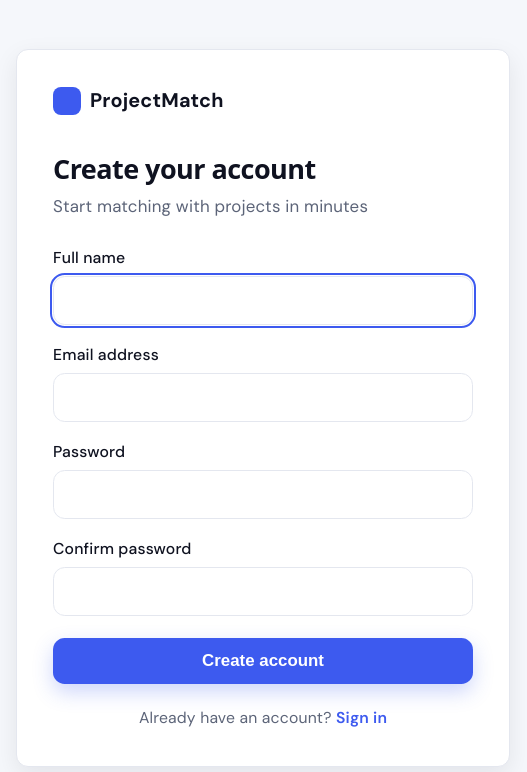
Test: SignupPage — client-side validation › shows API error message to the user
Type "Dupe" into the field labelled "Full name" at [263, 301], box [53,276,473,325]
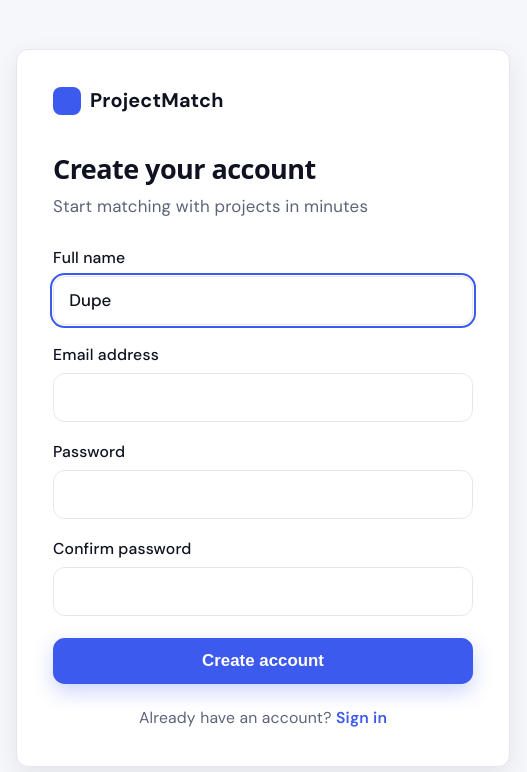
Type "dupe@example.com" into the field labelled "Email address" at [263, 398], box [53,373,473,422]
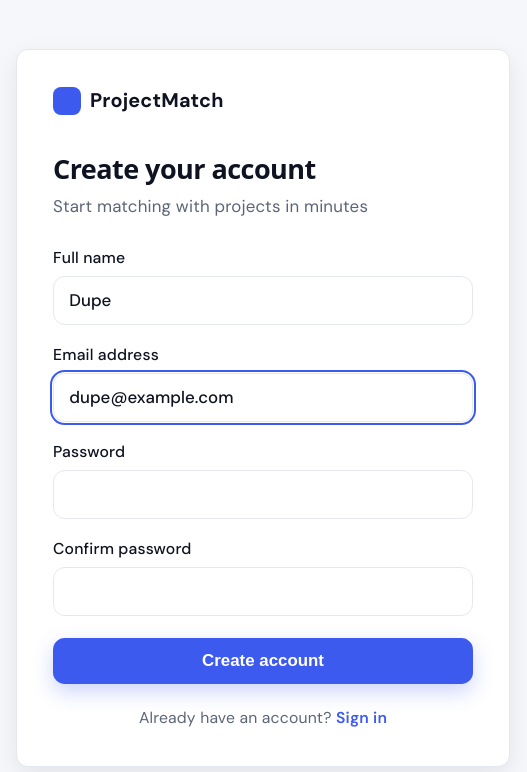
Type "password123" into the password field labelled "Password" at [263, 494], box [53,470,473,519]
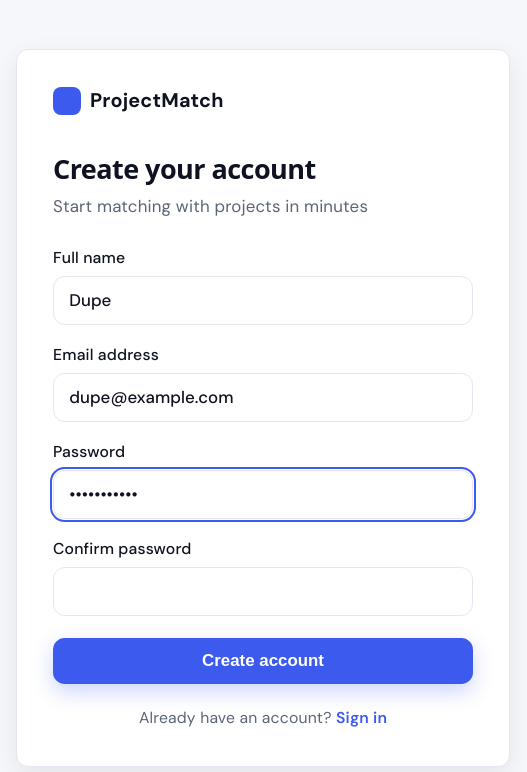
Type "password123" into the password field labelled "Confirm password" at [263, 591], box [53,567,473,616]
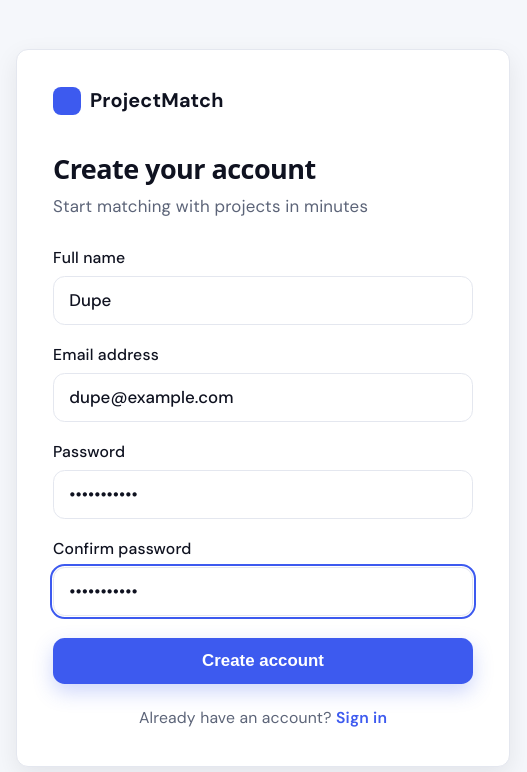
Click the button "Create account" at [263, 661], box [53,638,473,684]
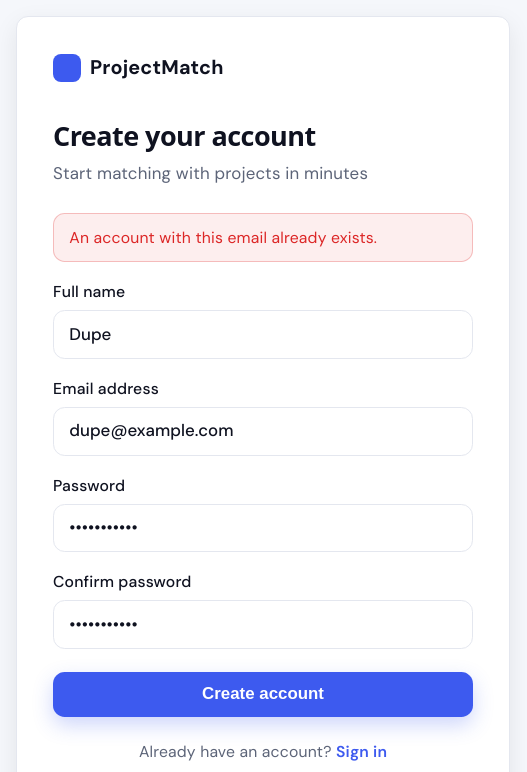
Expected: the message shows "already exists", [69,227,377,248]
